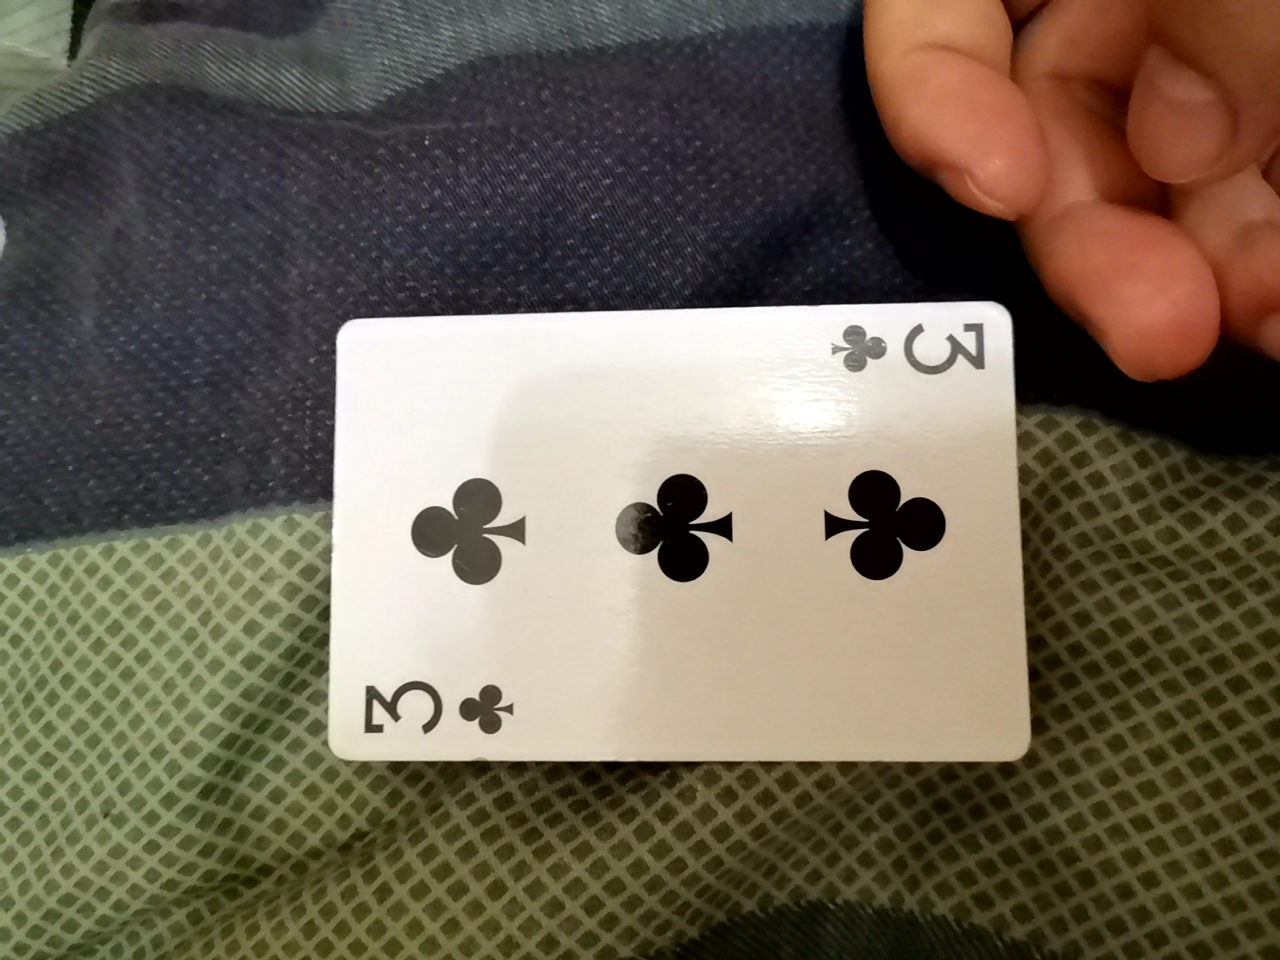mh 3: (312, 298, 1013, 769)
